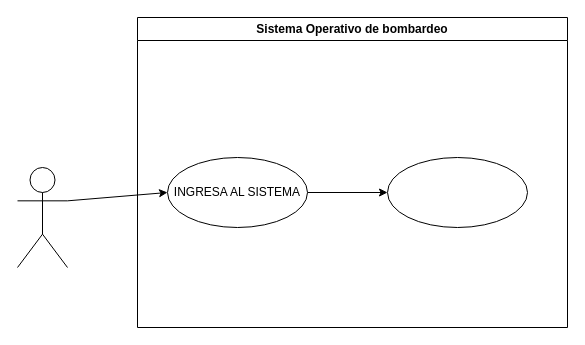
Some shapes in this 585 by 345 pixel diagram are drawn without their labels. Each missing label, with the centre of its shape:
pide usuario y contraseña: pixel 457 192
user: pixel 42 217
